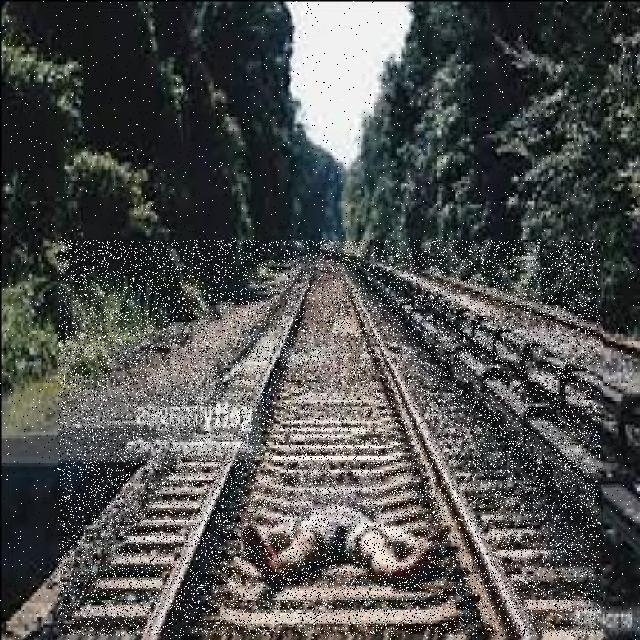rail: (60, 242, 601, 637)
